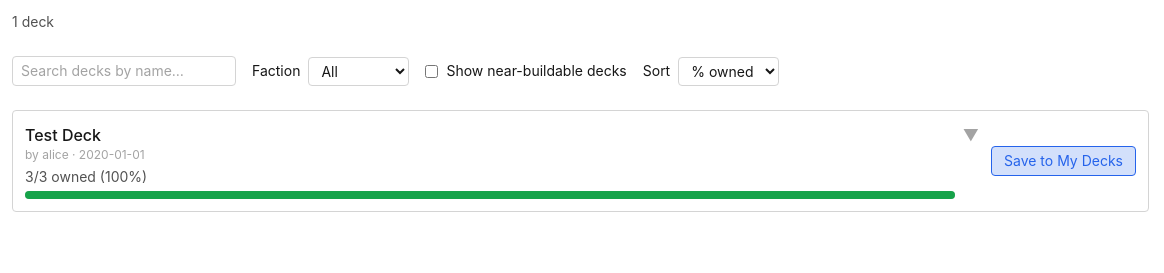
DiscoverSection › shows an error and re-enables the button when saving fails
Click the button "Save to My Decks". click: (1064, 161)
box: left=991, top=146, right=1136, bottom=176
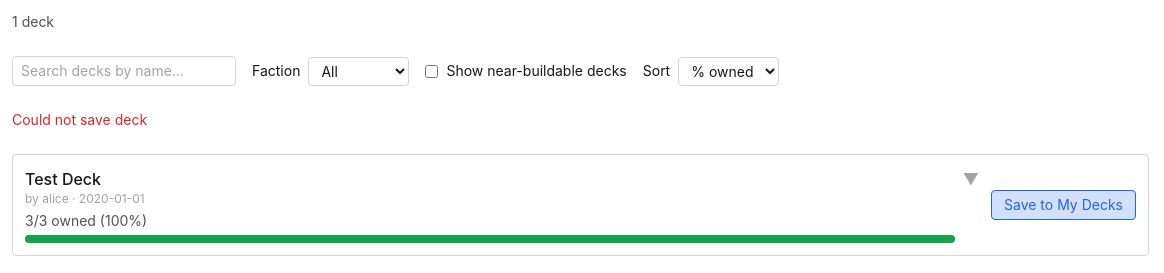
expect the button "Save to My Decks" is enabled: met, box left=991, top=190, right=1136, bottom=220
expect the text "Could not save deck" is shown: met, box left=12, top=111, right=147, bottom=128
